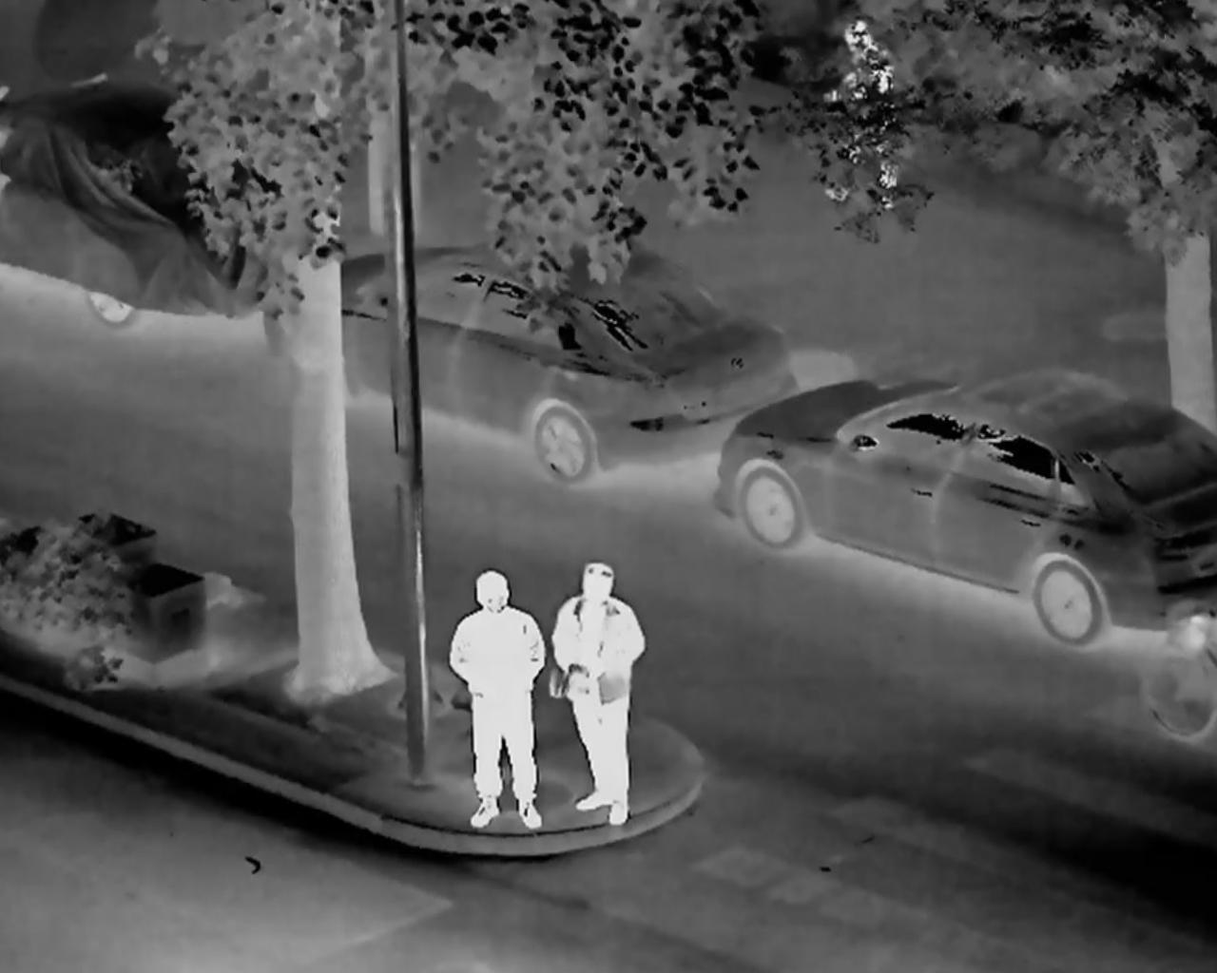person: (546, 554, 665, 824), (449, 552, 553, 849), (833, 16, 918, 236)
